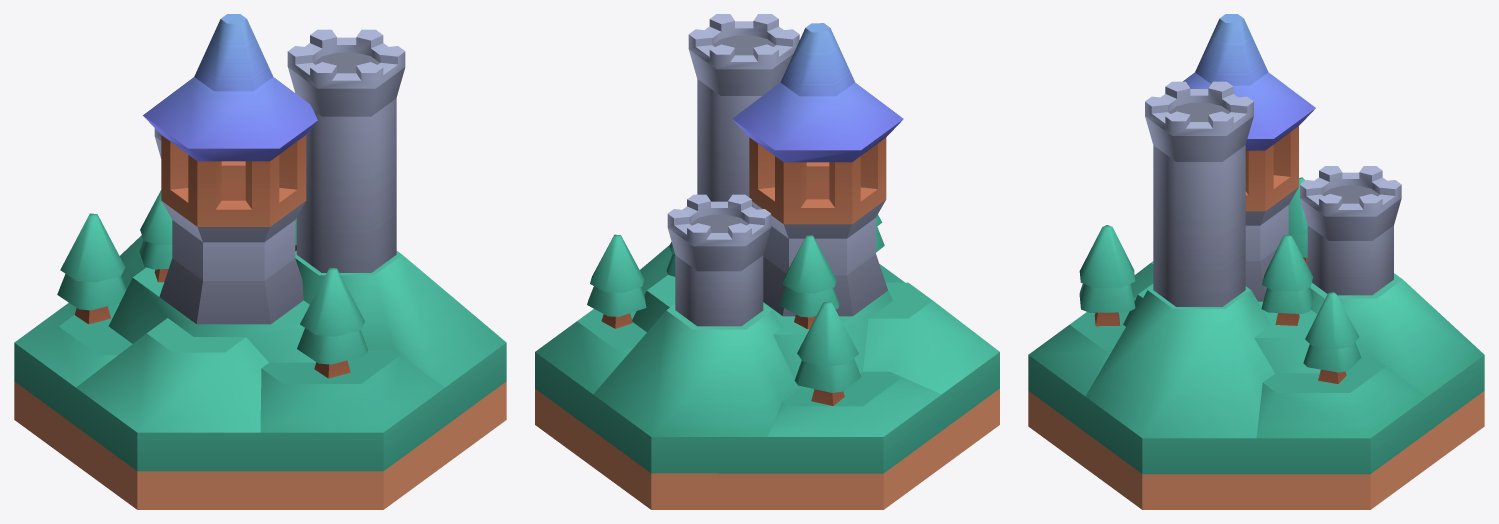
File: kenney-hexagon-building-wizard-tower.glb
The picture shows the model from 3 angles, left to right: view 1: azimuth 30°, elevation 25°; view 2: azimuth 150°, elevation 25°; view 3: azimuth 270°, elevation 25°; orthographic projection. The views are drawn at different scales.
Visible parts, largest first — view 1: building_wizard_tower; view 2: building_wizard_tower; view 3: building_wizard_tower.
Part boxes in pixels (x1,y1,x2,y2): building_wizard_tower: (14,14,506,509); building_wizard_tower: (535,14,999,509); building_wizard_tower: (1028,14,1484,509).
Bounding box in the file's own units: 1 × 1.09 × 1.15.
Materials: 1 (1 with a texture image).
